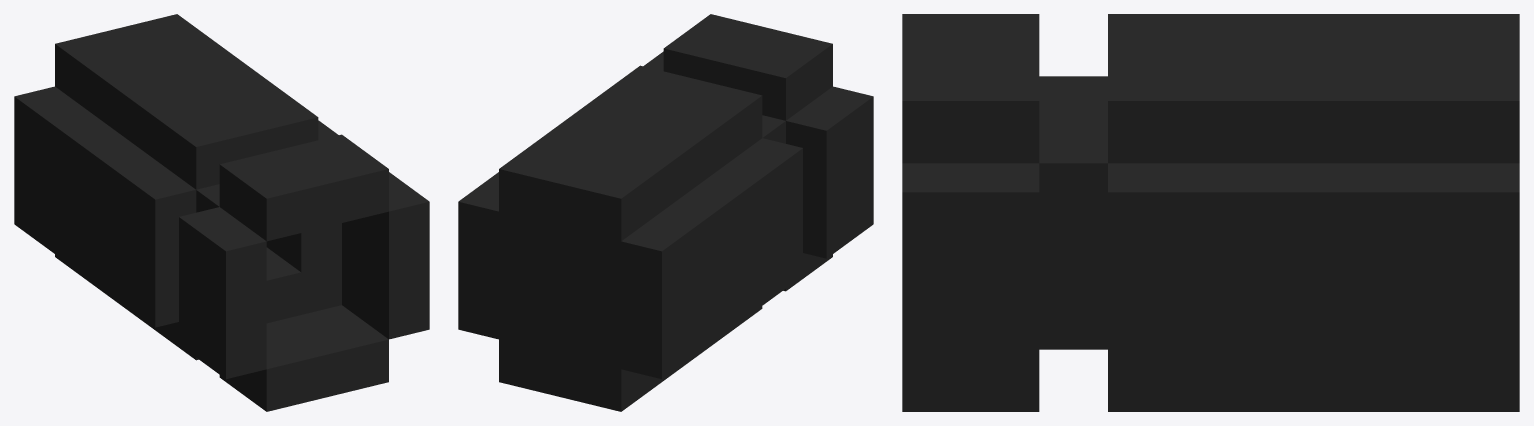
The model's file is Extra-6-StarMarine_Canon2_L.obj.
The picture shows the model from 3 angles, left to right: view 1: azimuth 30°, elevation 25°; view 2: azimuth 150°, elevation 25°; view 3: azimuth 270°, elevation 25°; orthographic projection. The views are drawn at different scales.
Parts seen in each view (by area): view 1: StarMarine_Canon2_L; view 2: StarMarine_Canon2_L; view 3: StarMarine_Canon2_L.
Part boxes in pixels (x1,y1,x2,y2): StarMarine_Canon2_L: [14, 14, 429, 411]; StarMarine_Canon2_L: [458, 14, 873, 411]; StarMarine_Canon2_L: [902, 14, 1519, 411].
Size of the model in its own units: 0.5 by 0.5 by 0.9.
1 material, 1 textured.
